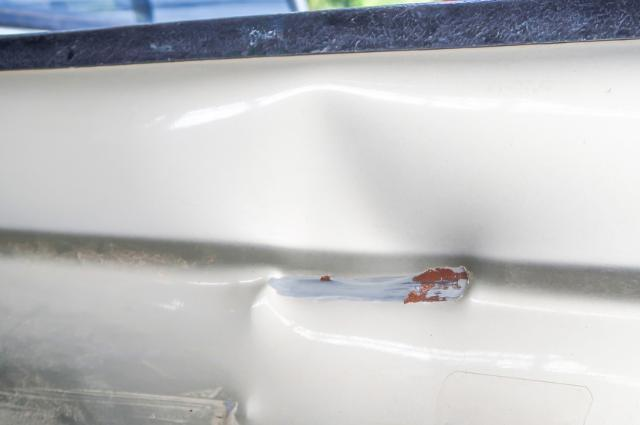Door: (0, 68, 628, 425)
